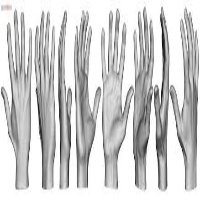ring: (136, 12, 145, 73), (20, 11, 26, 77), (45, 10, 50, 77), (108, 10, 113, 75), (79, 10, 84, 53)
